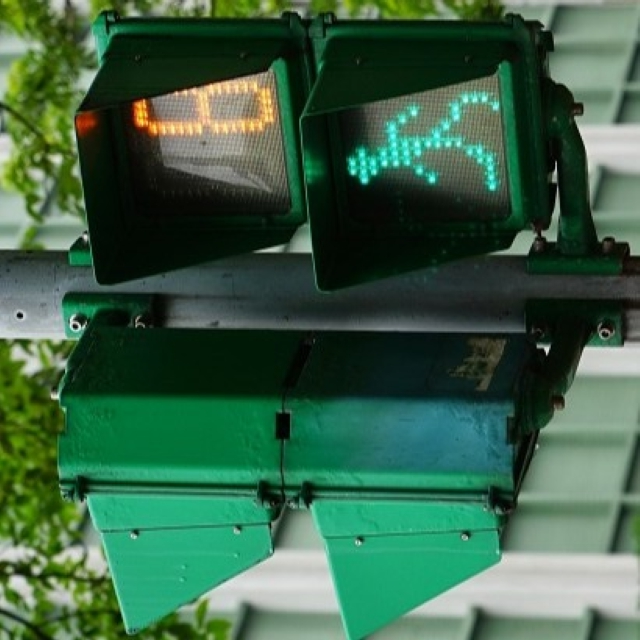green_light: (74, 21, 555, 283)
